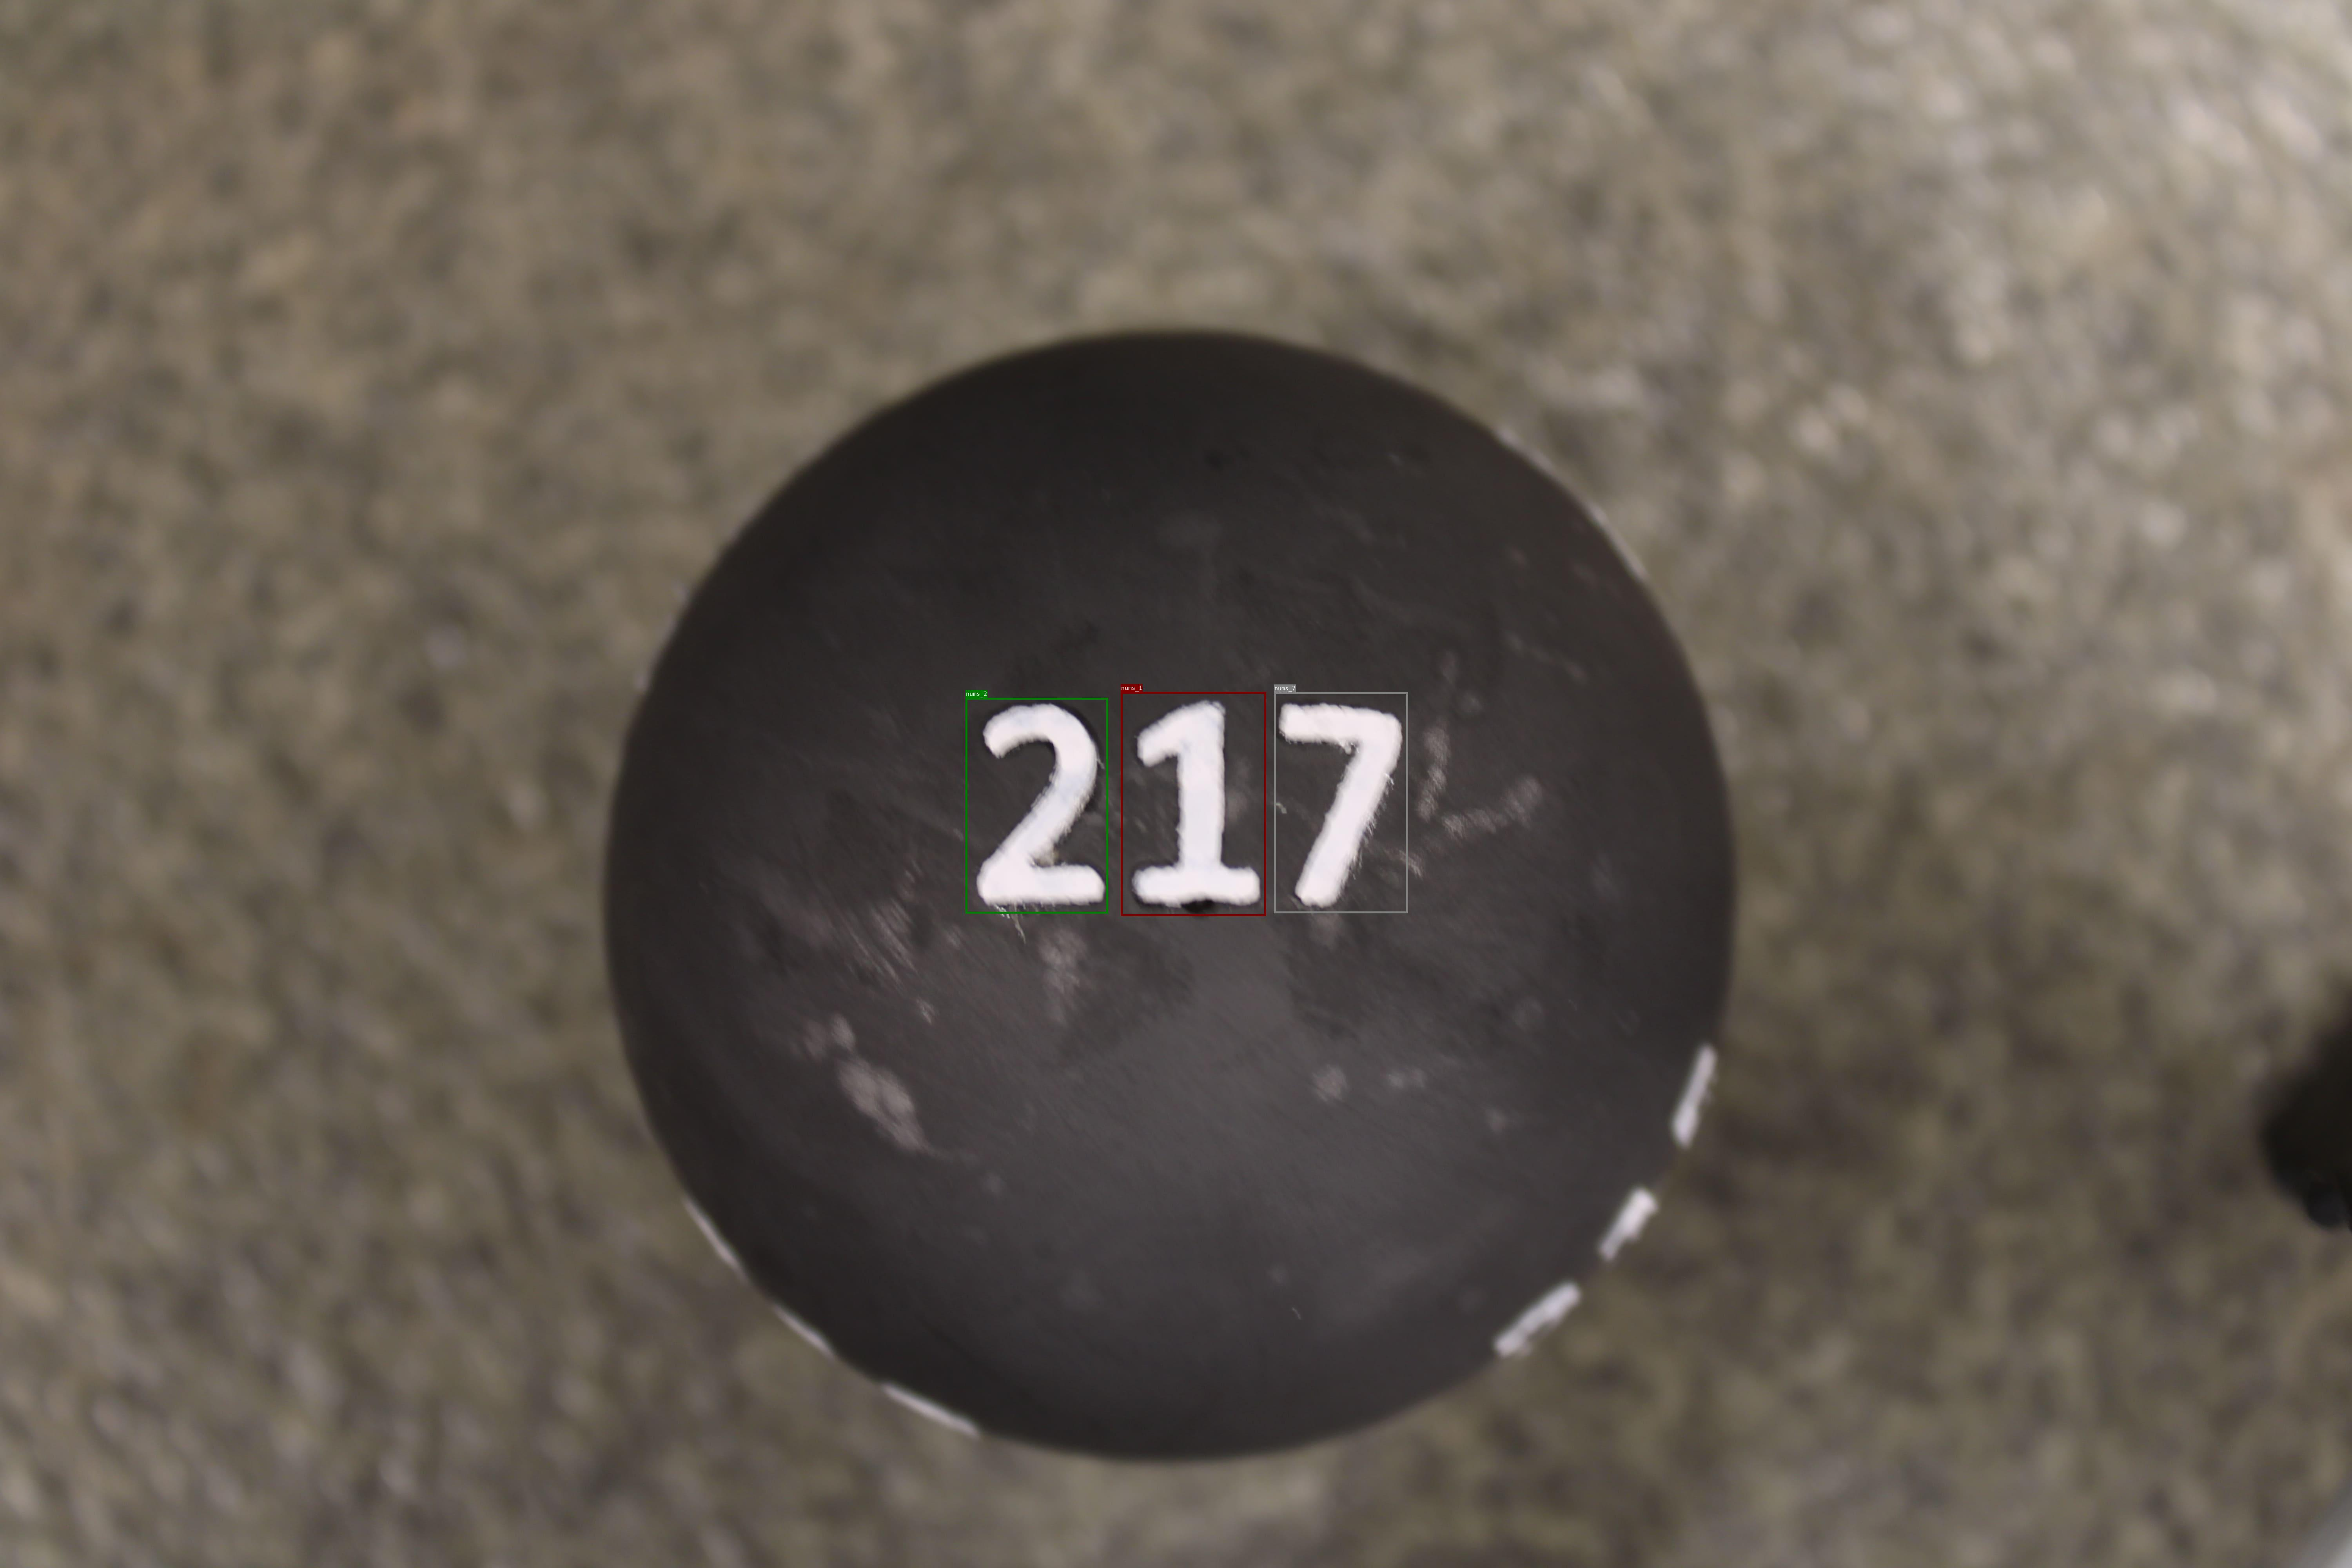nums_1: (1120, 691, 1265, 915)
nums_2: (966, 698, 1108, 914)
nums_7: (1274, 693, 1407, 914)
